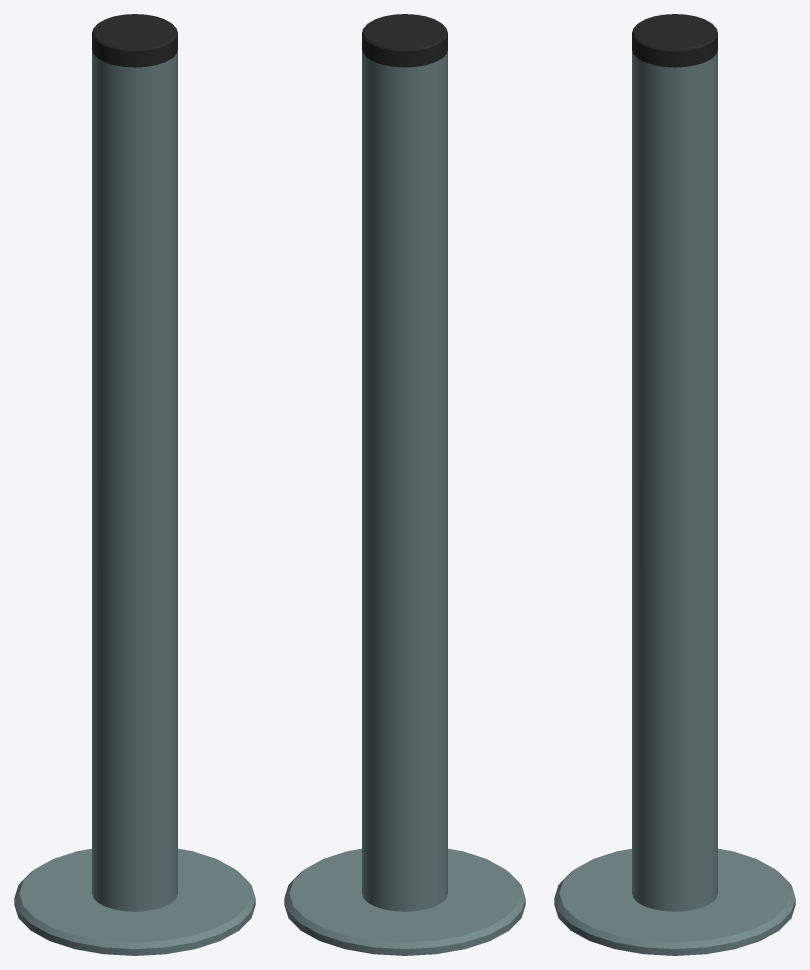
Rendered from 17_9_2_Model_AIRPORT_0.obj.
The picture shows the model from 3 angles, left to right: view 1: azimuth 30°, elevation 25°; view 2: azimuth 150°, elevation 25°; view 3: azimuth 270°, elevation 25°; orthographic projection.
Parts seen in each view (by area): view 1: 17.9.2.Model_AIRPORT_0; view 2: 17.9.2.Model_AIRPORT_0; view 3: 17.9.2.Model_AIRPORT_0.
Boxes of the visible parts, left/top/right/bottom form: 17.9.2.Model_AIRPORT_0: left=14, top=14, right=255, bottom=955; 17.9.2.Model_AIRPORT_0: left=284, top=14, right=525, bottom=955; 17.9.2.Model_AIRPORT_0: left=554, top=14, right=795, bottom=955.
Bounding box in the file's own units: 0.2288 × 0.9139 × 0.2288.
1 material, 1 textured.
